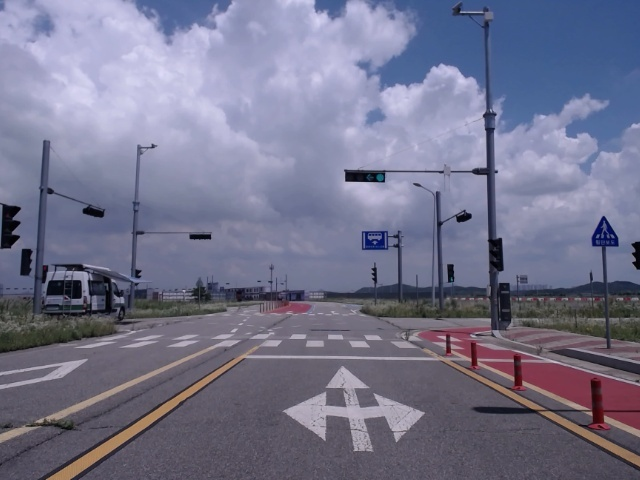all_green_4: (342, 169, 384, 182)
